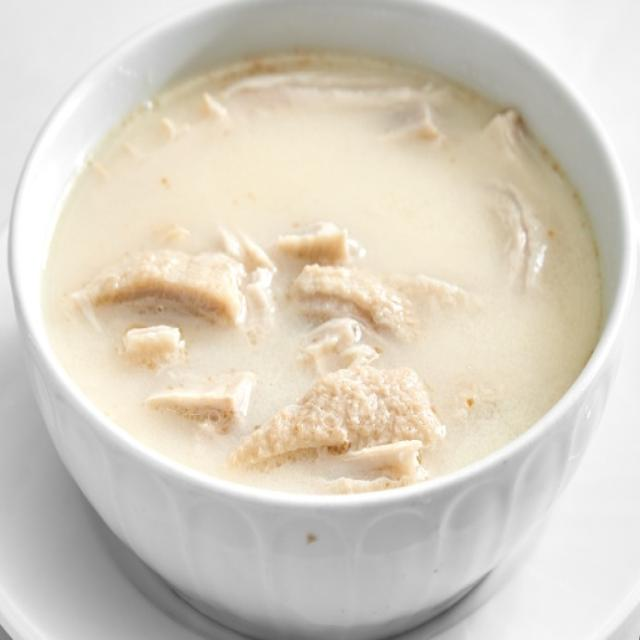corba: (6, 0, 634, 638)
